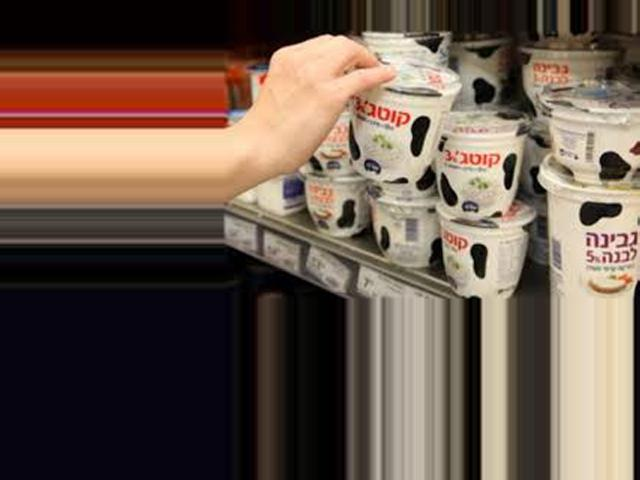cotage: (352, 68, 459, 179)
